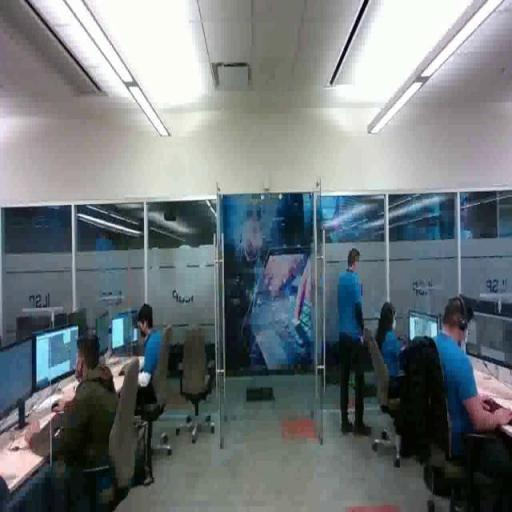person: (404, 290, 512, 493), (20, 329, 132, 503), (370, 295, 430, 446), (336, 248, 375, 441), (121, 302, 175, 439)
